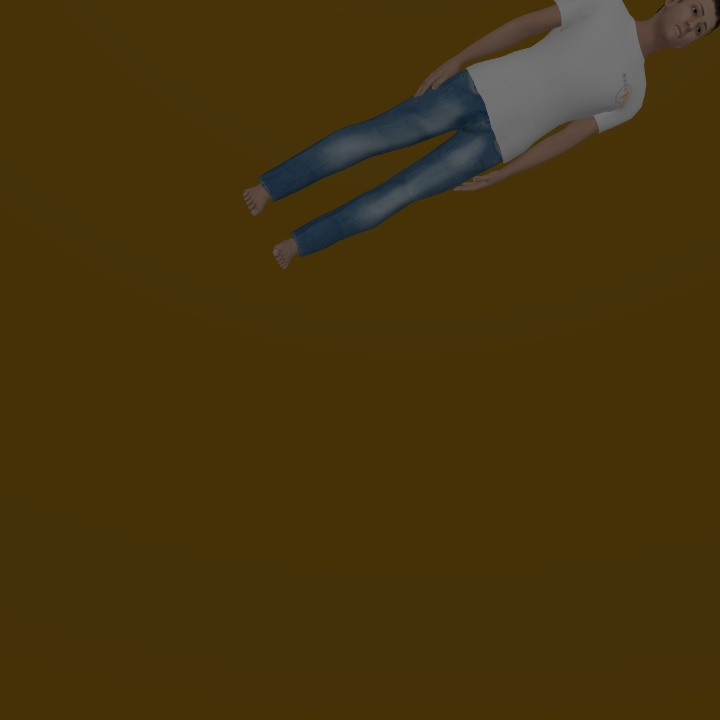victim: (241, 1, 717, 271)
